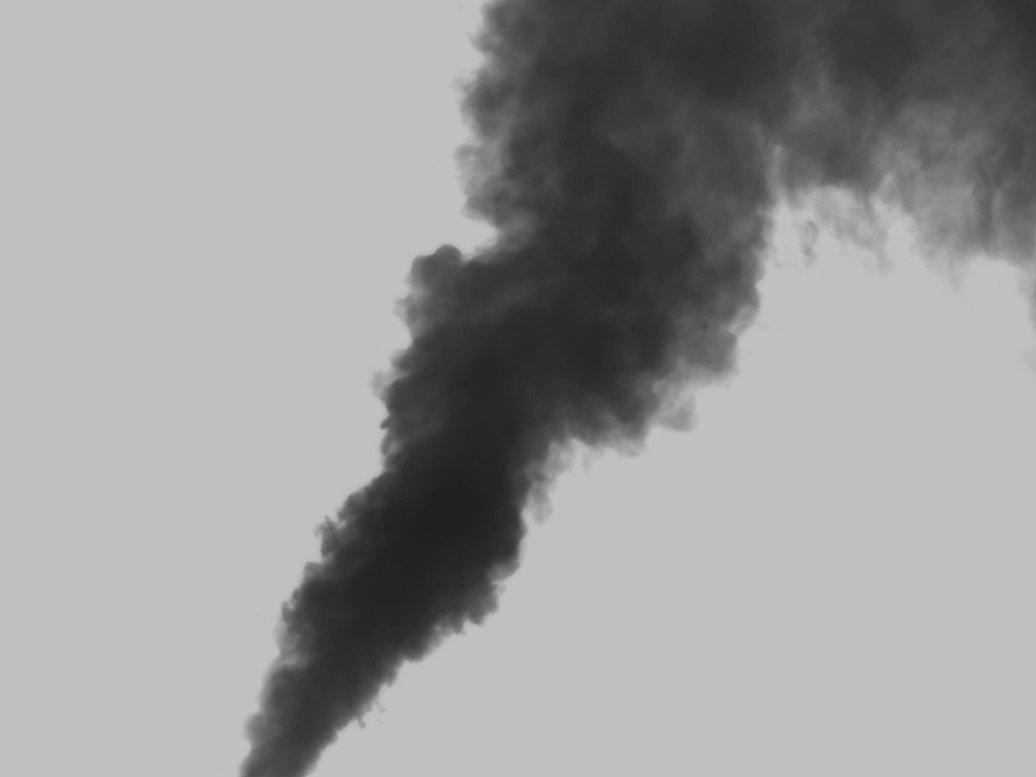smoke: (239, 1, 1036, 774)
